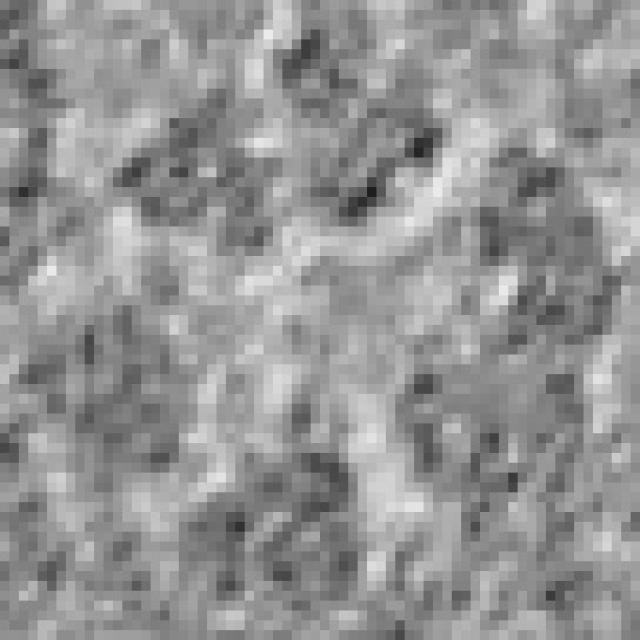inner: (281, 232, 500, 433)
lobe: (3, 259, 211, 504), (272, 0, 462, 239), (440, 124, 624, 342), (174, 433, 372, 623), (387, 336, 601, 510), (107, 80, 294, 277)
outer: (0, 0, 640, 636)
